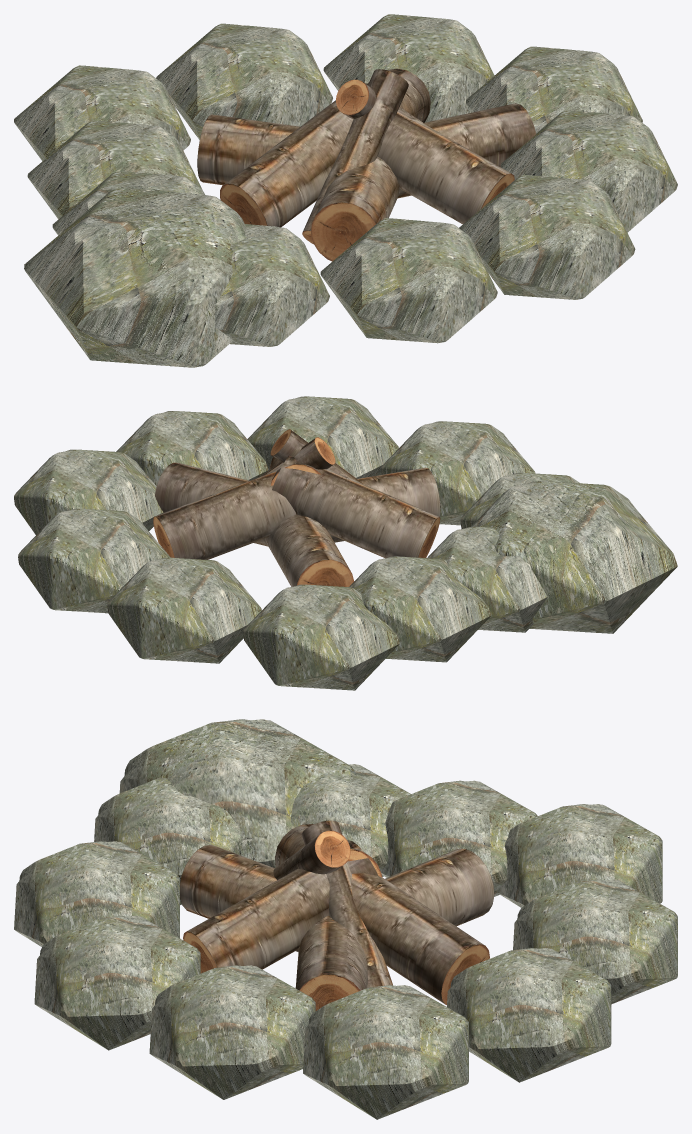
File: Small Fire Pit.fbx
3 renders of one model, top to bottom at view 1: azimuth 30°, elevation 25°; view 2: azimuth 150°, elevation 25°; view 3: azimuth 270°, elevation 25°, orthographic. The views are drawn at different scales.
Visible parts, largest first — view 1: pPlatonic14, pPlatonic8, pPlatonic7, pPlatonic3, pPlatonic6, pPlatonic9, pPlatonic4, pPlatonic2, pPlatonic5, pPlatonic11, pCylinder72, pCylinder71 (+7 smaller); view 2: pPlatonic14, pPlatonic2, pPlatonic3, pPlatonic4, pPlatonic11, pCylinder72, pPlatonic8, pPlatonic5, pCylinder70, pPlatonic6, pPlatonic7, pPlatonic10 (+6 smaller); view 3: pPlatonic5, pPlatonic6, pPlatonic4, pPlatonic14, pPlatonic7, pPlatonic3, pPlatonic8, pPlatonic2, pPlatonic11, pCylinder71, pCylinder70, pPlatonic9 (+7 smaller).
Part boxes in pixels (<box>): pPlatonic14: <box>24,187,246,367</box>; pPlatonic8: <box>320,218,497,343</box>; pPlatonic7: <box>459,174,635,299</box>; pPlatonic3: <box>156,23,332,139</box>; pPlatonic6: <box>501,110,677,232</box>; pPlatonic9: <box>215,224,329,346</box>; pPlatonic4: <box>323,14,494,122</box>; pPlatonic2: <box>14,65,190,160</box>; pPlatonic5: <box>466,46,642,133</box>; pPlatonic11: <box>27,120,202,219</box>; pCylinder72: <box>220,83,367,227</box>; pCylinder71: <box>333,103,514,224</box>; pPlatonic14: <box>471,481,677,633</box>; pPlatonic2: <box>243,584,399,690</box>; pPlatonic3: <box>107,557,261,663</box>; pPlatonic4: <box>18,508,170,613</box>; pPlatonic11: <box>349,556,491,662</box>; pCylinder72: <box>272,456,440,558</box>; pPlatonic8: <box>381,421,535,525</box>; pPlatonic5: <box>14,449,163,534</box>; pCylinder70: <box>153,471,295,559</box>; pPlatonic6: <box>116,411,268,485</box>; pPlatonic7: <box>247,396,398,478</box>; pPlatonic10: <box>427,526,547,632</box>; pPlatonic5: <box>303,985,468,1119</box>; pPlatonic6: <box>149,965,315,1099</box>; pPlatonic4: <box>447,948,611,1082</box>; pPlatonic14: <box>119,719,355,868</box>; pPlatonic7: <box>34,915,200,1050</box>; pPlatonic3: <box>513,879,677,1004</box>; pPlatonic8: <box>14,841,179,946</box>; pPlatonic2: <box>497,804,662,907</box>; pPlatonic11: <box>380,780,537,896</box>; pCylinder71: <box>183,840,378,973</box>; pCylinder70: <box>351,873,489,1004</box>; pPlatonic9: <box>94,778,242,904</box>.
Bounding box in the file's own units: 1.47 × 0.388 × 1.25.
Materials: 3 (3 with a texture image).
